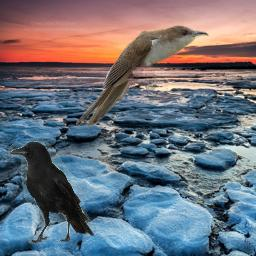Crow: (8, 141, 94, 244)
Cuckoo: (76, 25, 209, 125)
